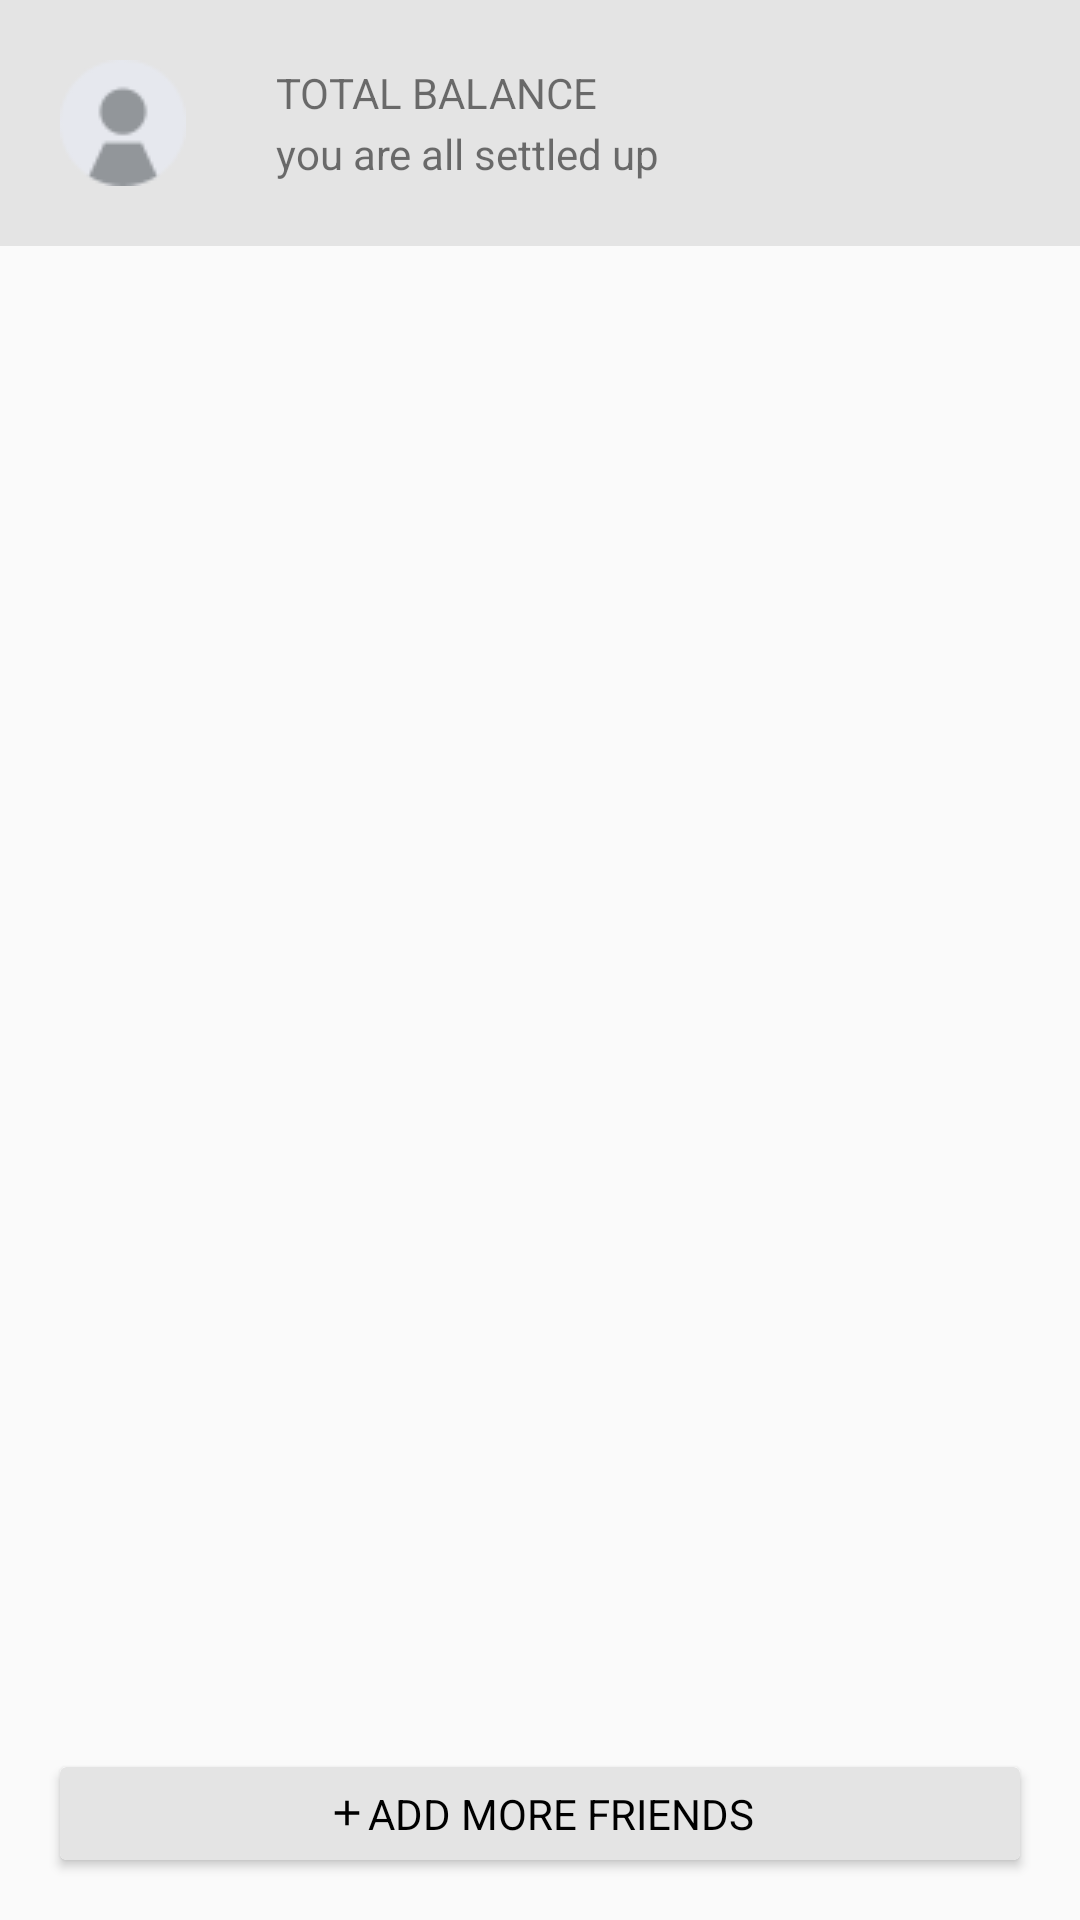

Locate icon controls on the screen. Image size 1080px×1920px, boxes as box(x1, y1, x2, y2).
contact: box(89, 88, 157, 186)
